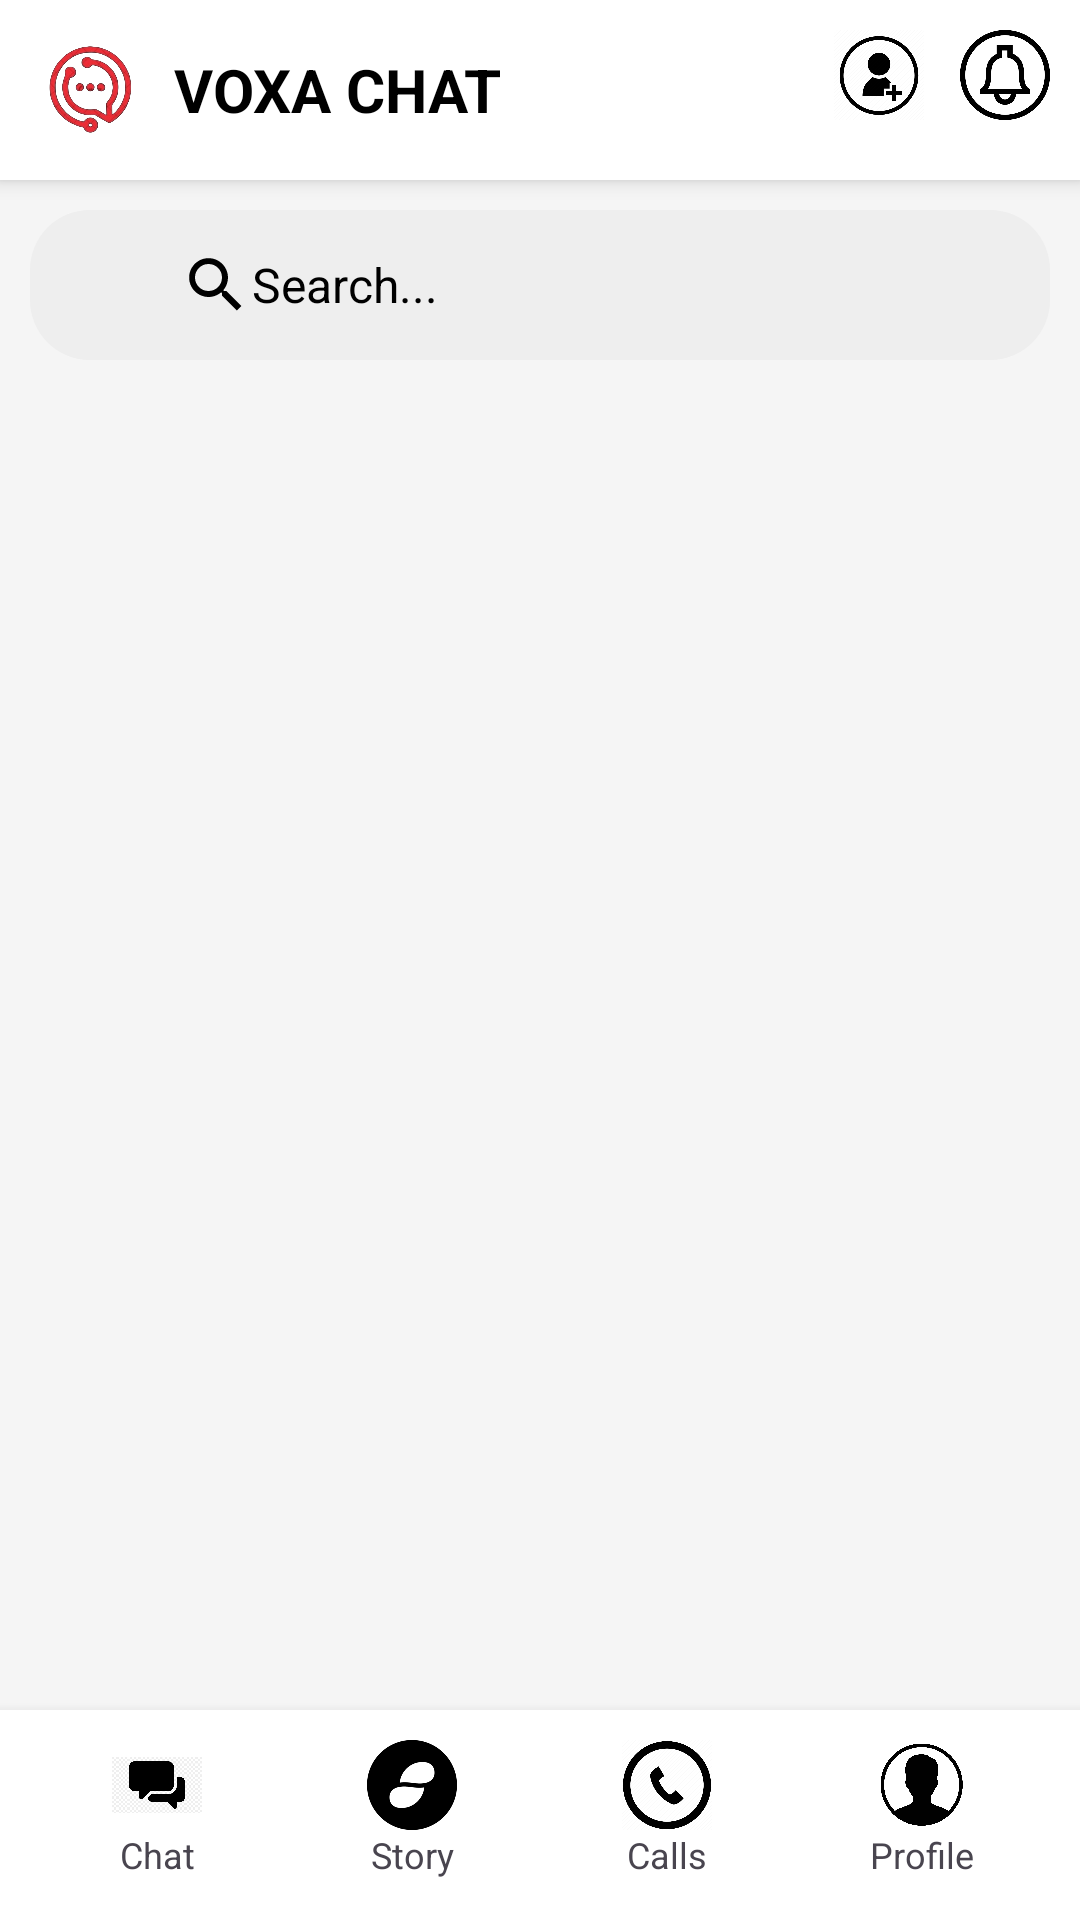

Screen size 1080 × 1920. Icon name, then its center in pixels as (x,y):
add friend: (879,75)
notification: (1005,75)
user: (922,1785)
